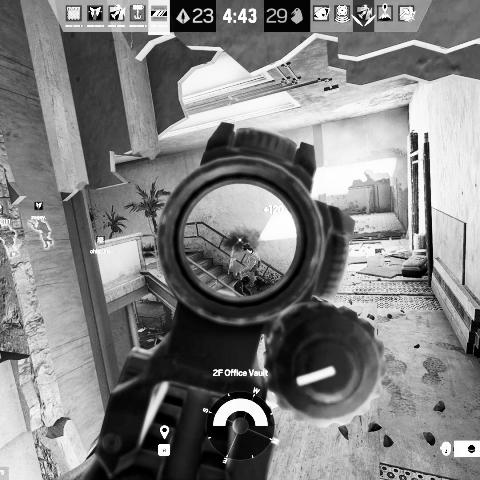Character: (232, 243, 262, 297)
Friend_label: (89, 235, 112, 255), (30, 200, 47, 220), (0, 204, 11, 224)
Head: (242, 244, 253, 253)
